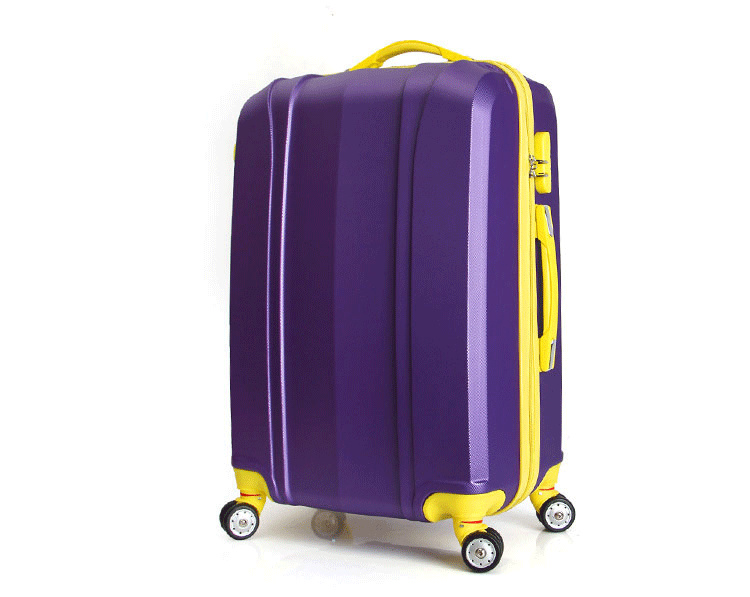suitcase: (215, 41, 579, 576)
